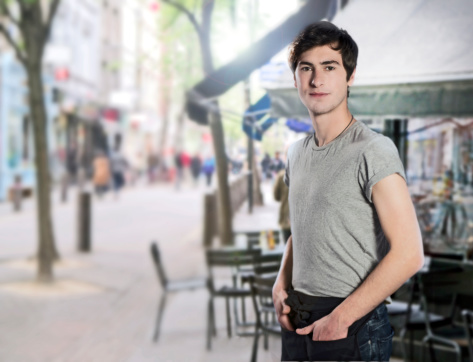em pe: (235, 14, 442, 362)
